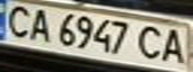4: (90, 17, 115, 53)
6: (51, 11, 78, 47)
7: (109, 19, 136, 55)
9: (72, 15, 96, 51)
A: (157, 26, 190, 65), (24, 7, 54, 43)
C: (0, 2, 36, 38), (133, 24, 166, 61)
